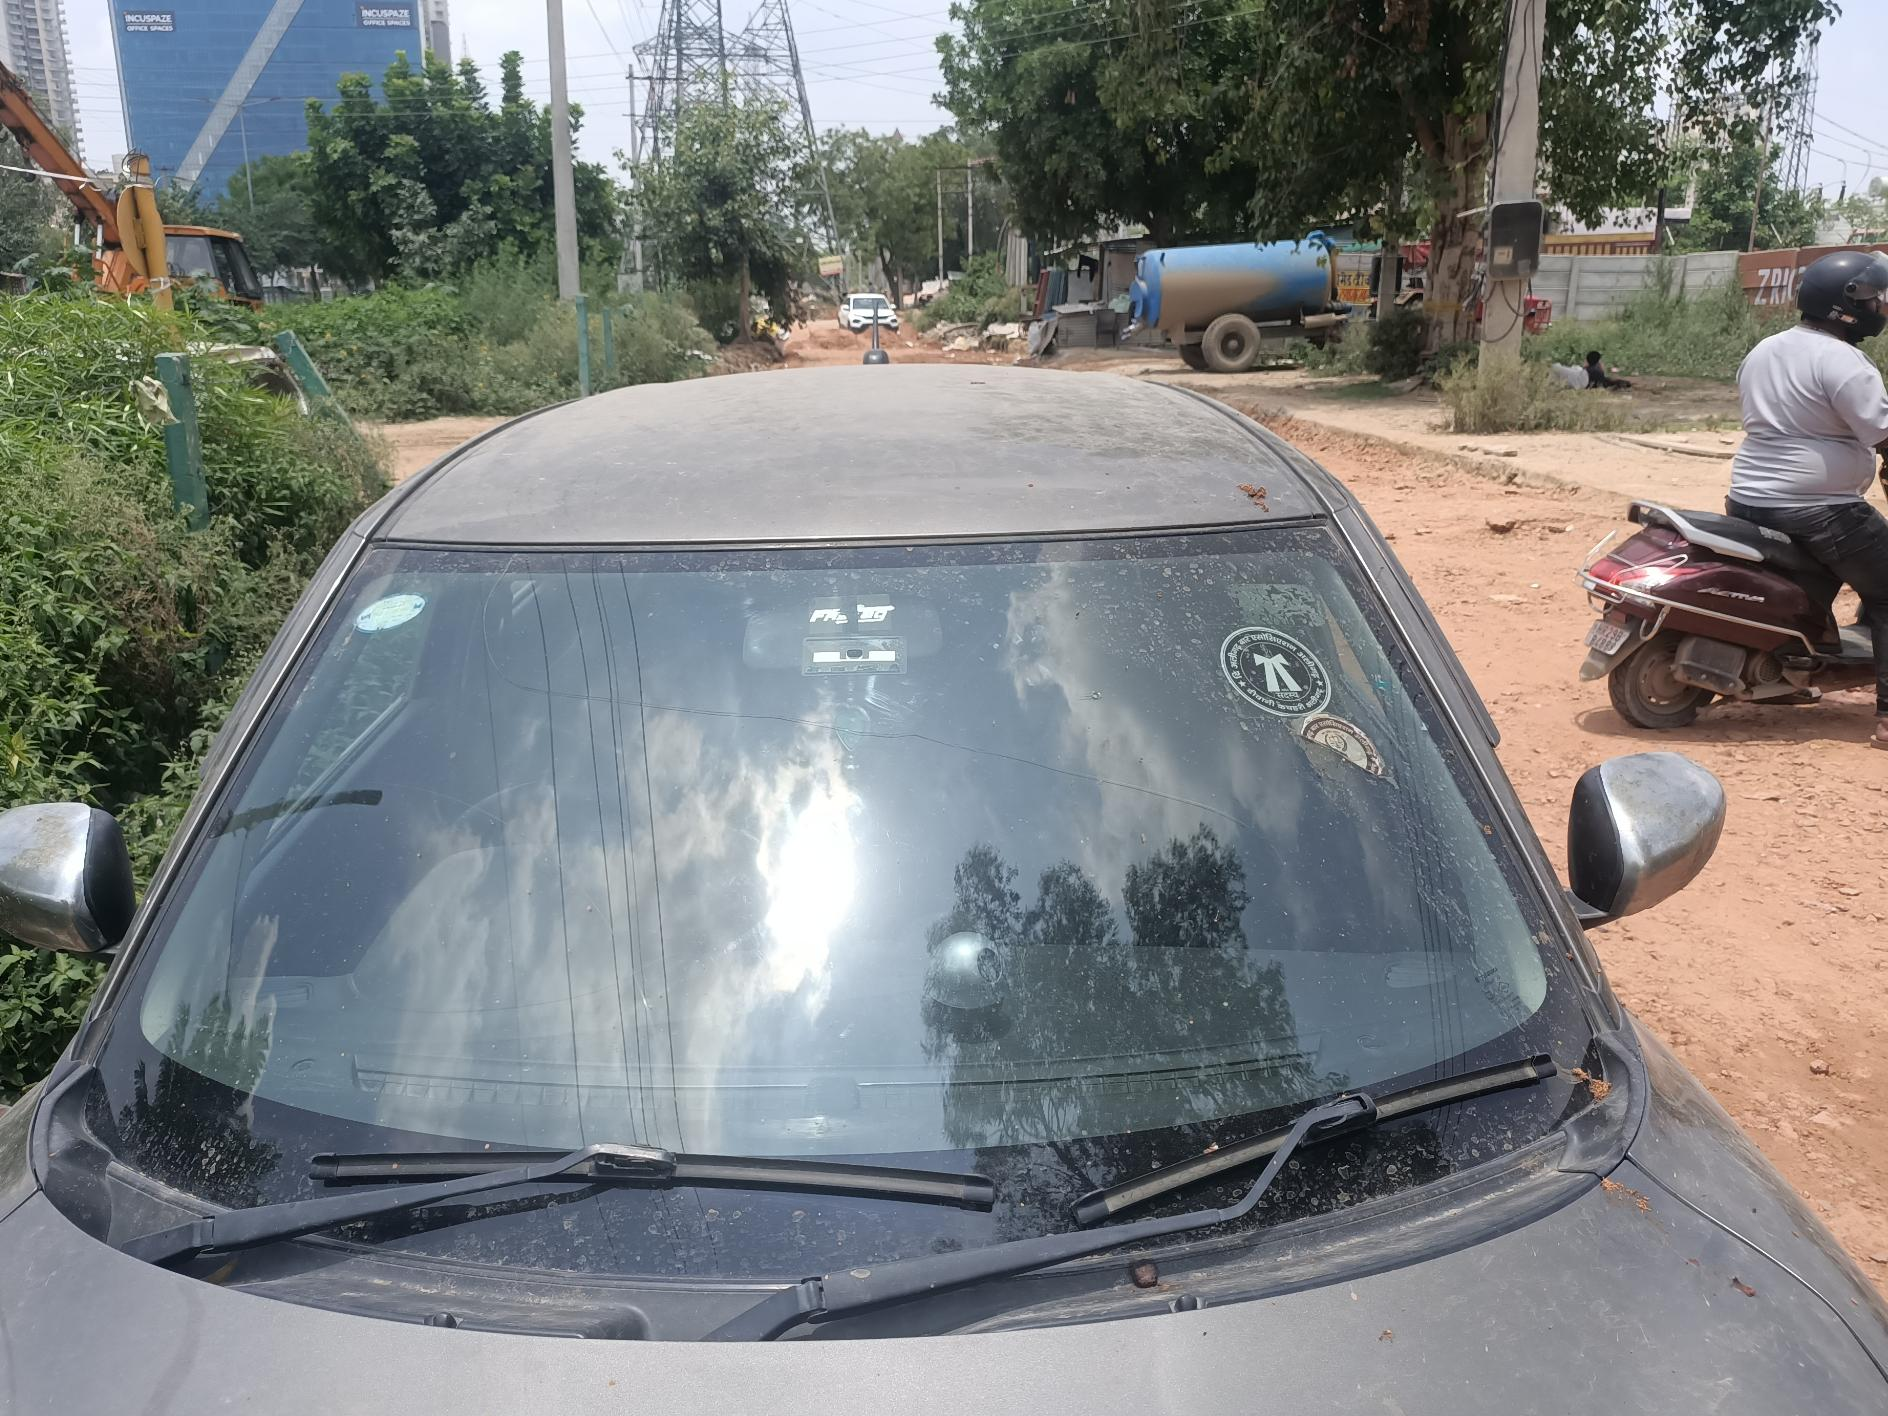FastTag: (791, 629, 920, 689)
not a FastTag: (1200, 616, 1335, 717), (1295, 709, 1421, 797), (346, 580, 434, 649)
